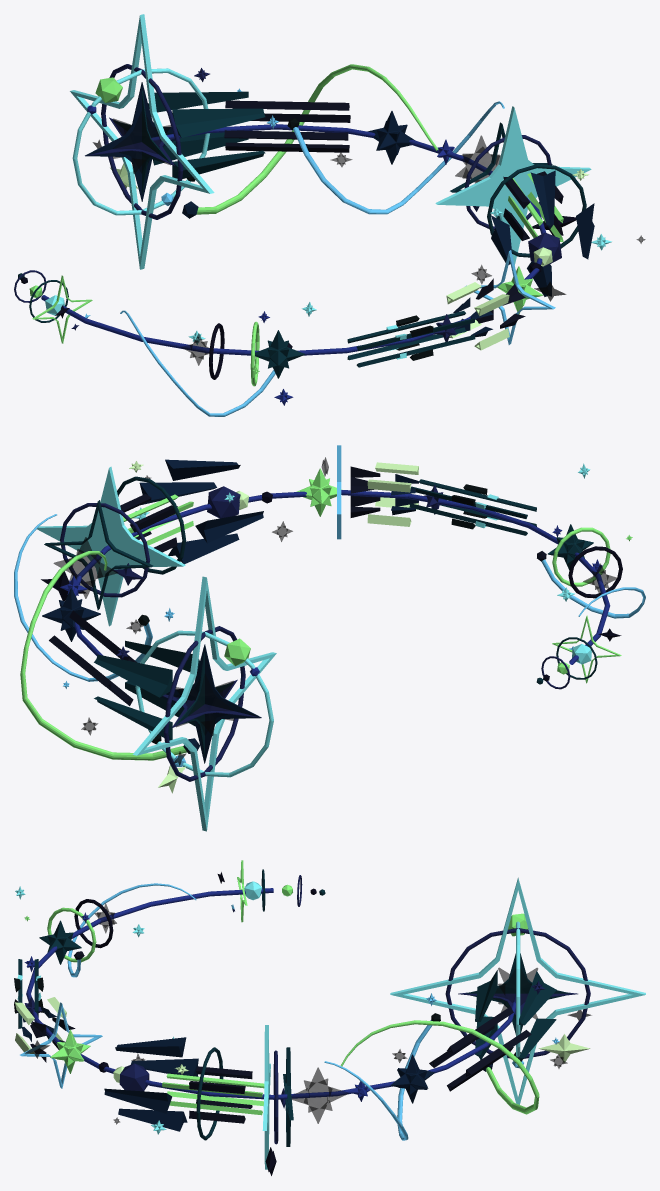
Rendered from shooting star_st3_c.fbx.
3 views of the same model, one above another, from view 1: azimuth 30°, elevation 25°; view 2: azimuth 150°, elevation 25°; view 3: azimuth 270°, elevation 25° (orthographic). The views are drawn at different scales.
Parts seen in each view (by area): view 1: star_follow1; view 2: star_follow1; view 3: star_follow1.
Part boxes in pixels (<box>): star_follow1: <box>14,14,645,416</box>; star_follow1: <box>14,445,645,831</box>; star_follow1: <box>14,860,645,1175</box>.
Bounding box in the file's own units: 246 × 104 × 258.
